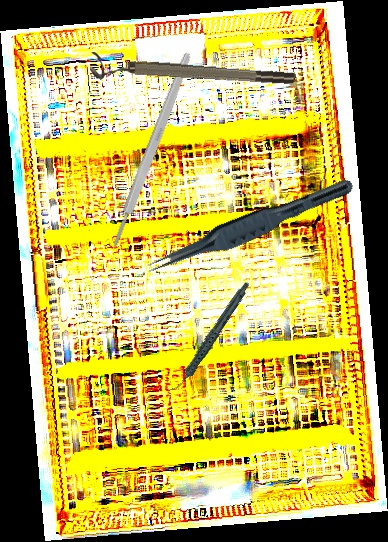Fixation Ring: (88, 51, 297, 97)
Handpiece: (151, 281, 269, 394)
Scalpel Handle: (108, 50, 194, 250)
Tissue Forceps: (142, 166, 356, 286)
